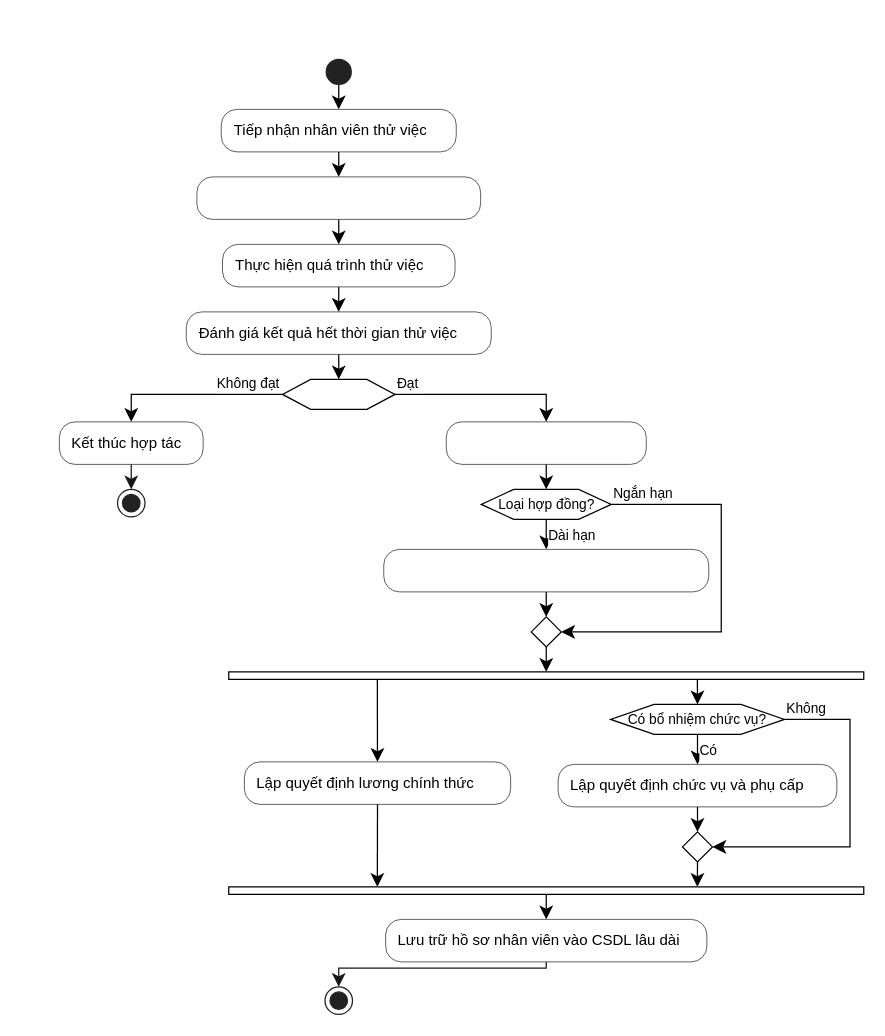
Some shapes in this 885 by 1036 pixel diagram are drawn without their labels. Each missing label, with the centre of its shape:
Ký hợp đồng chính thức: point 545,442
Lập hồ sơ bảo hiểm y tế, bảo hiểm xã hội: point 545,570
Lập quyết định tuyển dụng thử việc: point 338,197
Đạt yêu cầu?: point 338,393
